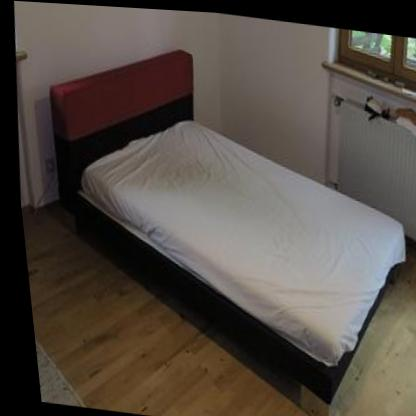Bed: (22, 27, 416, 416)
